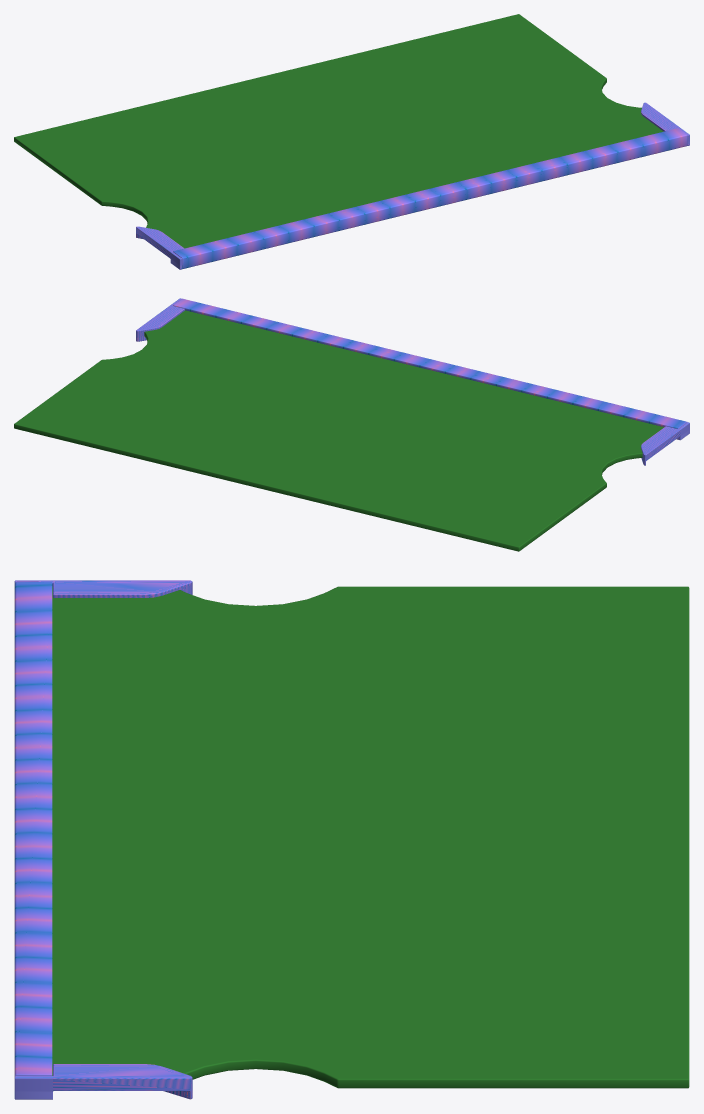
The model's file is SM_Fridge_Shelf.fbx.
3 renders of one model, top to bottom at view 1: azimuth 30°, elevation 25°; view 2: azimuth 150°, elevation 25°; view 3: azimuth 270°, elevation 25°, orthographic. The views are drawn at different scales.
Visible parts, largest first — view 1: SM_Fridge_Shelf; view 2: SM_Fridge_Shelf; view 3: SM_Fridge_Shelf.
Boxes of the visible parts, x1=… form: SM_Fridge_Shelf: x1=14, y1=14, x2=689, y2=269; SM_Fridge_Shelf: x1=14, y1=298, x2=689, y2=551; SM_Fridge_Shelf: x1=14, y1=580, x2=689, y2=1099.
Bounding box in the file's own units: 46.84 × 0.9999 × 26.82.
3 materials, 2 textured.
